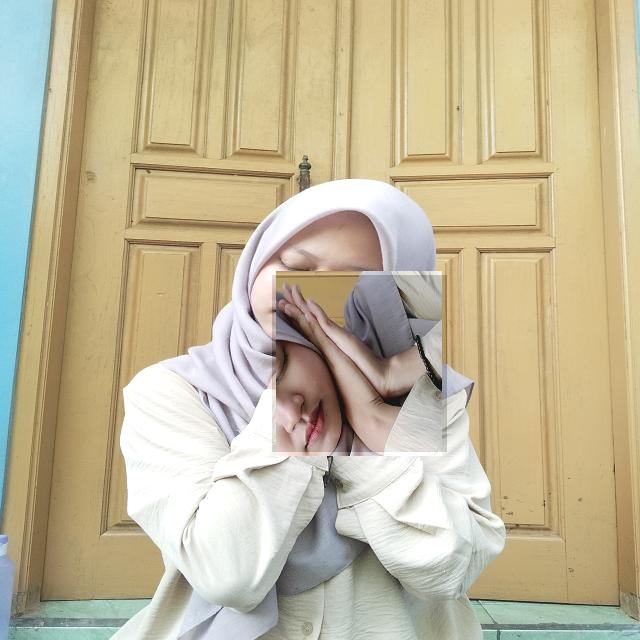tidur: (272, 275, 447, 452)
